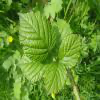Raspberry leaf: (17, 11, 57, 61), (16, 52, 52, 81), (51, 15, 72, 55), (58, 33, 82, 67), (45, 61, 67, 94)
